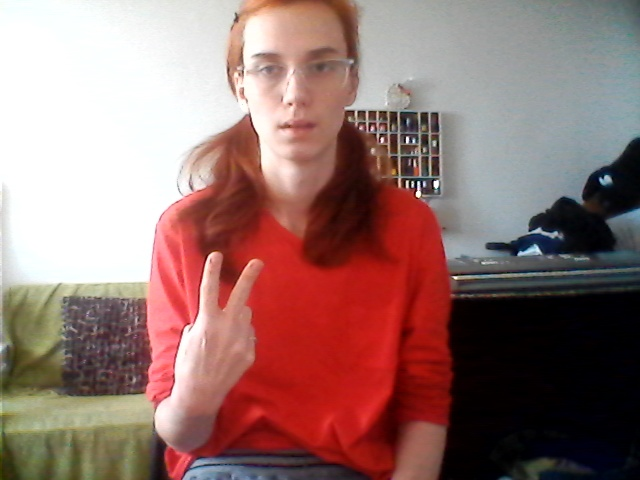v: (144, 237, 298, 401)
